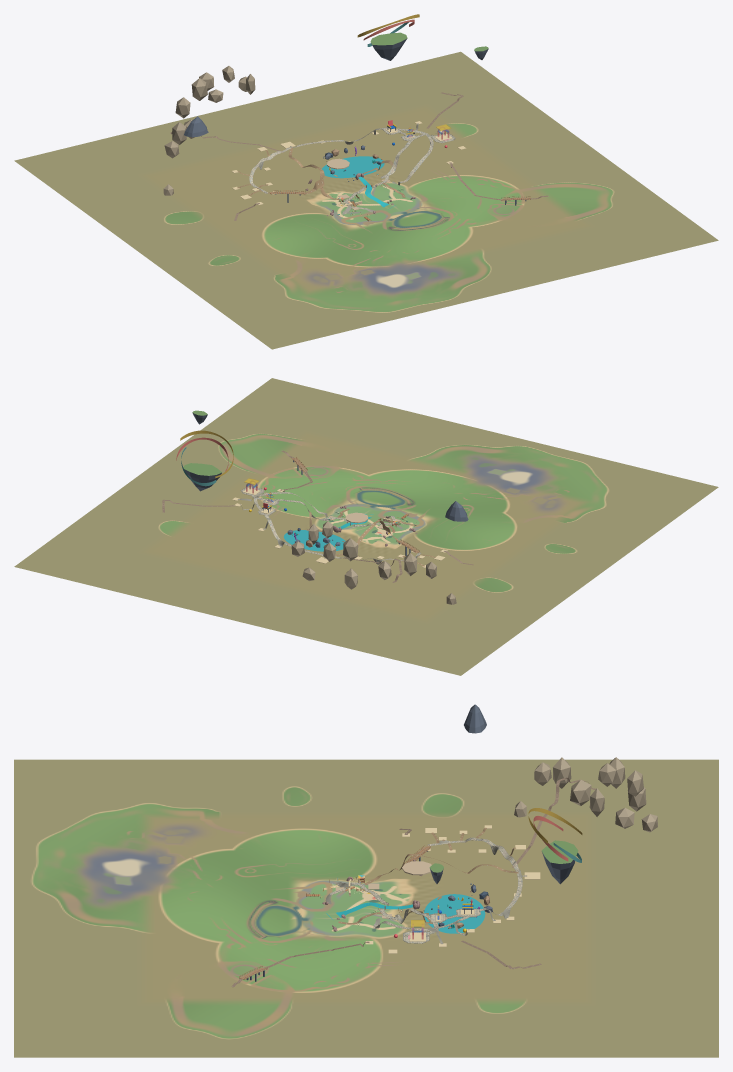
Rendered from world-web.glb.
3 renders of one model, top to bottom at view 1: azimuth 30°, elevation 25°; view 2: azimuth 150°, elevation 25°; view 3: azimuth 270°, elevation 25°, orthographic. The views are drawn at different scales.
Visible parts, largest first — view 1: Terrain · sculpted river cove, World66.stone, Road64.Top.mortar, World66.dark, LakeWater65, Road64.Paving.stone-cream, Road64.Paving.stone-warm, Road64.Top.soil, World66.soil.Walkable; view 2: Terrain · sculpted river cove, World66.stone, World66.dark, LakeWater65, Road64.Top.mortar, World66.soil.Walkable; view 3: Terrain · sculpted river cove, World66.stone, Road64.Top.mortar, LakeWater65, World66.dark, World66.soil.Walkable, Road64.Paving.stone-cream, Road64.Paving.stone-warm, World66.grass, Road64.Top.soil.
Part boxes in pixels (x1,y1,x2,y2): Terrain · sculpted river cove: (14, 51, 718, 349); World66.stone: (163, 66, 255, 195); Road64.Top.mortar: (249, 123, 454, 214); World66.dark: (184, 38, 526, 205); LakeWater65: (322, 156, 384, 178); Road64.Paving.stone-cream: (249, 127, 453, 213); Road64.Paving.stone-warm: (250, 128, 454, 209); Road64.Top.soil: (237, 147, 405, 200); World66.soil.Walkable: (170, 92, 548, 220); Terrain · sculpted river cove: (14, 378, 718, 675); World66.stone: (291, 521, 456, 604); World66.dark: (184, 413, 468, 555); LakeWater65: (284, 530, 345, 551); Road64.Top.mortar: (237, 486, 421, 564); World66.soil.Walkable: (162, 450, 473, 582); Terrain · sculpted river cove: (14, 759, 718, 1057); World66.stone: (514, 757, 657, 832); Road64.Top.mortar: (325, 837, 526, 943); LakeWater65: (424, 894, 485, 933); World66.dark: (246, 704, 574, 981); World66.soil.Walkable: (231, 777, 595, 986); Road64.Paving.stone-cream: (333, 833, 523, 943); Road64.Paving.stone-warm: (330, 835, 522, 942); World66.grass: (429, 840, 578, 872); Road64.Top.soil: (338, 827, 518, 924).
Size of the model in its own units: 480 by 126 by 480.
Materials: 67 (1 with a texture image).
